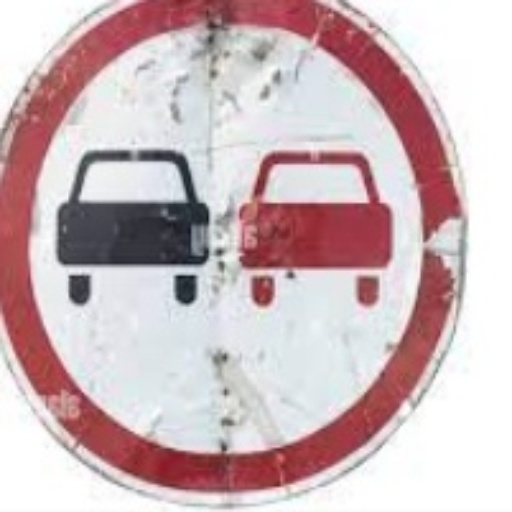No overtake: (27, 9, 466, 485)
